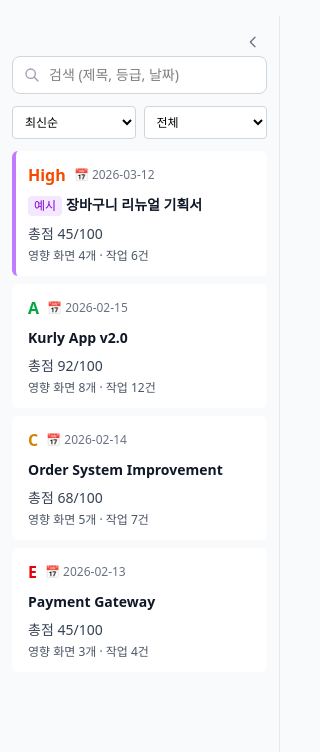
LNB › displays no search results message
expect the heading "Kurly App v2.0" is shown: met, box [28,328,128,347]
Step 1. Type "nonexistent" into the field with placeholder "검색 (제목, 등급, 날짜)" → point(140, 75), box [12,56,267,94]
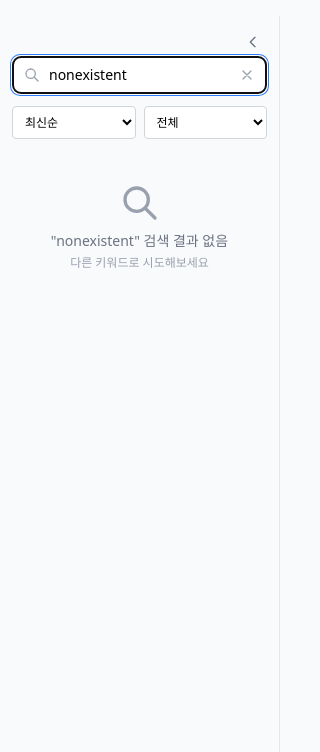
expect the text "\"nonexistent\" 검색 결과 없음" is shown: met, box [51,231,228,250]
expect the text "다른 키워드로 시도해보세요" is shown: met, box [70,254,209,271]
